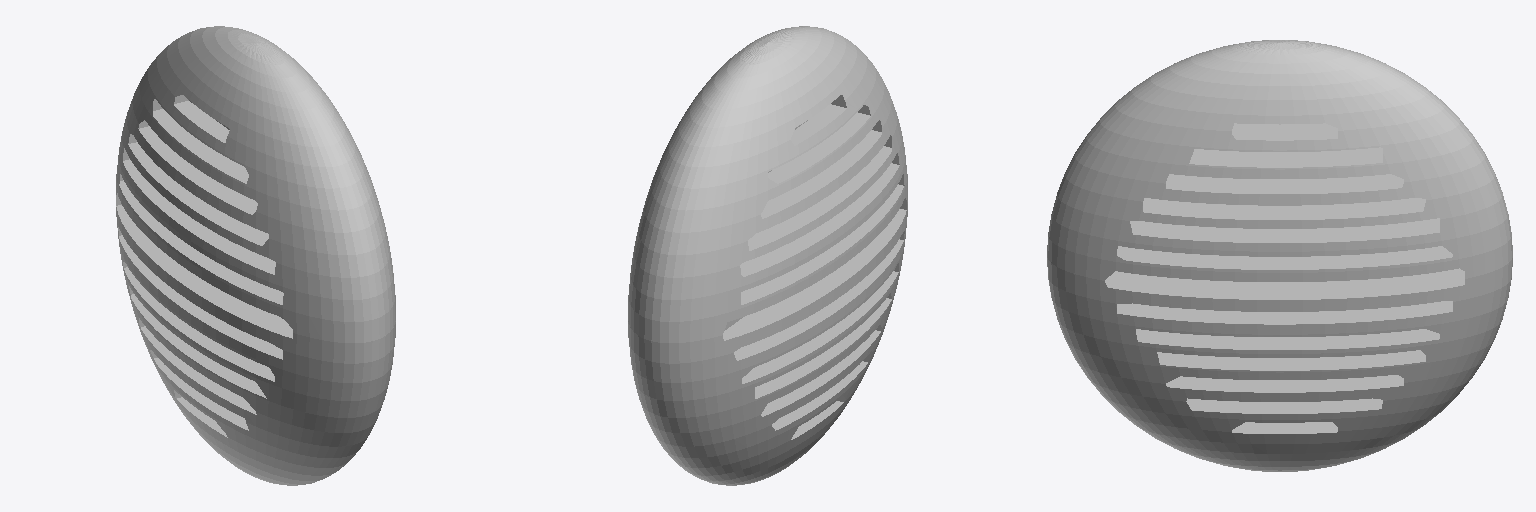
The model's file is Speaker.002.obj.
3 renders of one model, left to right at view 1: azimuth 30°, elevation 25°; view 2: azimuth 150°, elevation 25°; view 3: azimuth 270°, elevation 25°, orthographic.
Visible parts, largest first — view 1: Speaker.002_Sphere.001; view 2: Speaker.002_Sphere.001; view 3: Speaker.002_Sphere.001.
Part boxes in pixels (left/top/right/bottom): Speaker.002_Sphere.001: left=116, top=26, right=395, bottom=485; Speaker.002_Sphere.001: left=628, top=26, right=907, bottom=485; Speaker.002_Sphere.001: left=1047, top=40, right=1512, bottom=471.
Size of the model in its own units: 0.1227 by 0.3212 by 0.3179.